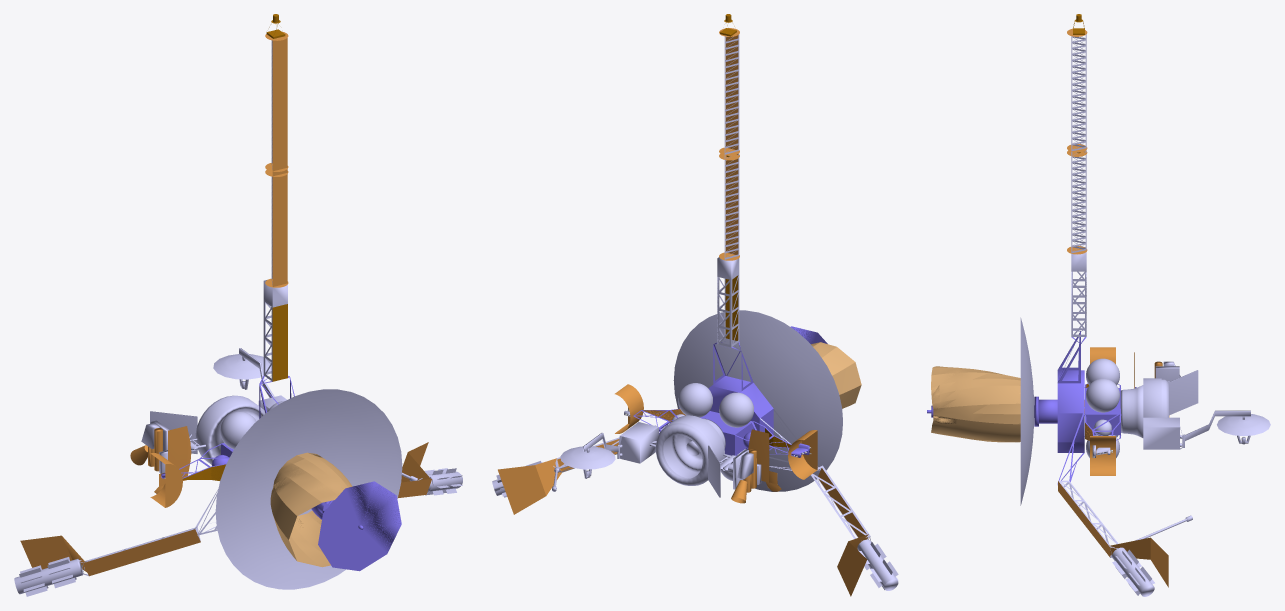
The model's file is galileo低精度.fbx.
3 renders of one model, left to right at view 1: azimuth 30°, elevation 25°; view 2: azimuth 150°, elevation 25°; view 3: azimuth 270°, elevation 25°, orthographic. The views are drawn at different scales.
Parts seen in each view (by area): view 1: IndexedF42_3DJD, IndexedF46_3DJD, IndexedF55_3DJD, IndexedF37_3DJD, IndexedF50_3DJD, IndexedFa6_3DJD, IndexedF54_3DJD, IndexedF10_3DJD, IndexedF35_3DJD, IndexedF52_3DJD, IndexedFa4_3DJD, IndexedFa7_3DJD (+5 smaller); view 2: IndexedF42_3DJD, IndexedF50_3DJD, IndexedF37_3DJD, IndexedF36_3DJD, IndexedF16_3DJD, IndexedF51_3DJD, IndexedF55_3DJD, IndexedFac_3DJD, IndexedFa4_3DJD, IndexedF54_3DJD, IndexedF52_3DJD, IndexedF10_3DJD (+11 smaller); view 3: IndexedF55_3DJD, IndexedF36_3DJD, IndexedFac_3DJD, IndexedF50_3DJD, IndexedF42_3DJD, IndexedF51_3DJD, IndexedF54_3DJD, IndexedF16_3DJD, IndexedF52_3DJD, IndexedFa4_3DJD, IndexedF22_3DJD, IndexedF25_3DJD (+7 smaller).
Boxes of the visible parts, x1,y1,x2,y2 form: IndexedF42_3DJD: (215,389,402,589); IndexedF46_3DJD: (318,481,401,571); IndexedF55_3DJD: (270,452,352,567); IndexedF37_3DJD: (265,31,288,287); IndexedF50_3DJD: (195,395,265,464); IndexedFa6_3DJD: (83,529,200,576); IndexedF54_3DJD: (141,411,205,473); IndexedF10_3DJD: (20,535,87,572); IndexedF35_3DJD: (272,304,287,381); IndexedF52_3DJD: (213,354,271,389); IndexedFa4_3DJD: (263,280,287,381); IndexedFa7_3DJD: (14,559,83,594); IndexedF42_3DJD: (673,310,842,491); IndexedF50_3DJD: (655,415,725,485); IndexedF37_3DJD: (719,28,739,260); IndexedF36_3DJD: (724,34,739,259); IndexedF16_3DJD: (498,458,561,514); IndexedF51_3DJD: (583,422,658,463); IndexedF55_3DJD: (811,342,861,408); IndexedFac_3DJD: (708,376,773,449); IndexedFa4_3DJD: (717,257,739,347); IndexedF54_3DJD: (708,445,761,497); IndexedF52_3DJD: (560,446,615,478); IndexedF10_3DJD: (837,534,868,596); IndexedF55_3DJD: (931,366,1020,442); IndexedF36_3DJD: (1071,34,1086,253); IndexedFac_3DJD: (1057,370,1084,452); IndexedF50_3DJD: (1120,378,1168,437); IndexedF42_3DJD: (1020,317,1034,505); IndexedF51_3DJD: (1143,410,1250,449); IndexedF54_3DJD: (1155,361,1198,415); IndexedF16_3DJD: (1109,537,1168,587); IndexedF52_3DJD: (1217,414,1270,444); IndexedFa4_3DJD: (1071,247,1086,336); IndexedF22_3DJD: (1086,378,1119,412); IndexedF25_3DJD: (1090,436,1115,475).
Size of the model in its own units: 19402 by 23213 by 14672.
